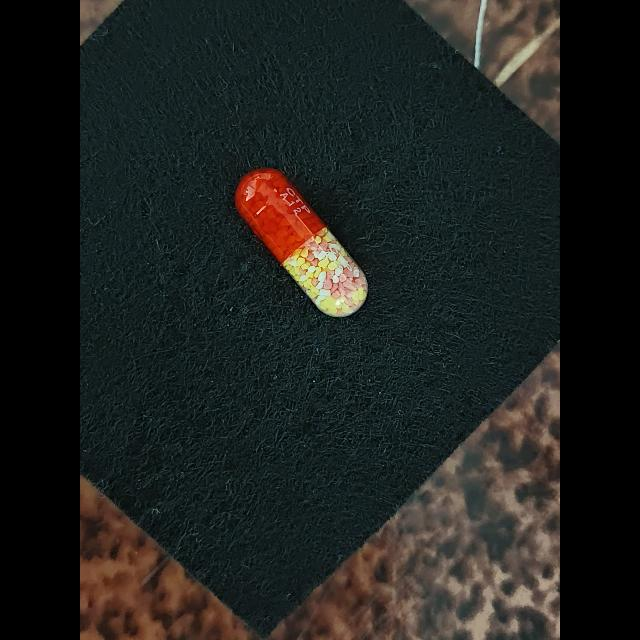Intact Capsule: (235, 168, 368, 317)
